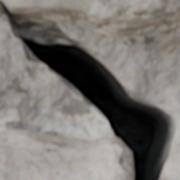brick: (3, 0, 179, 36)
broken_brick: (0, 129, 130, 179), (166, 142, 179, 179)
crack: (0, 0, 179, 179)
